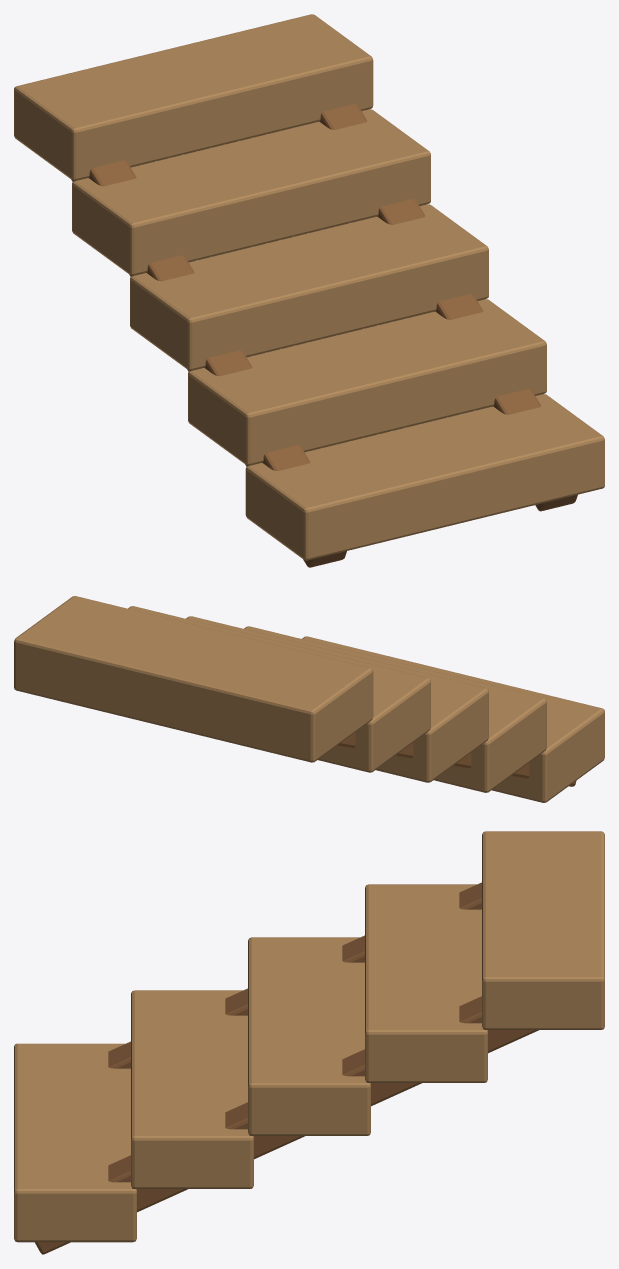
The model's file is SM_WoodStair_200.fbx.
3 renders of one model, top to bottom at view 1: azimuth 30°, elevation 25°; view 2: azimuth 150°, elevation 25°; view 3: azimuth 270°, elevation 25°, orthographic.
Parts seen in each view (by area): view 1: SM_WoodStair_200; view 2: SM_WoodStair_200; view 3: SM_WoodStair_200.
Boxes of the visible parts, x1,y1,x2,y2 form: SM_WoodStair_200: [14, 14, 604, 567]; SM_WoodStair_200: [14, 596, 604, 802]; SM_WoodStair_200: [14, 831, 604, 1254].
Size of what is drawn, in the model's own units: 1.2 by 2.02 by 1.08.
